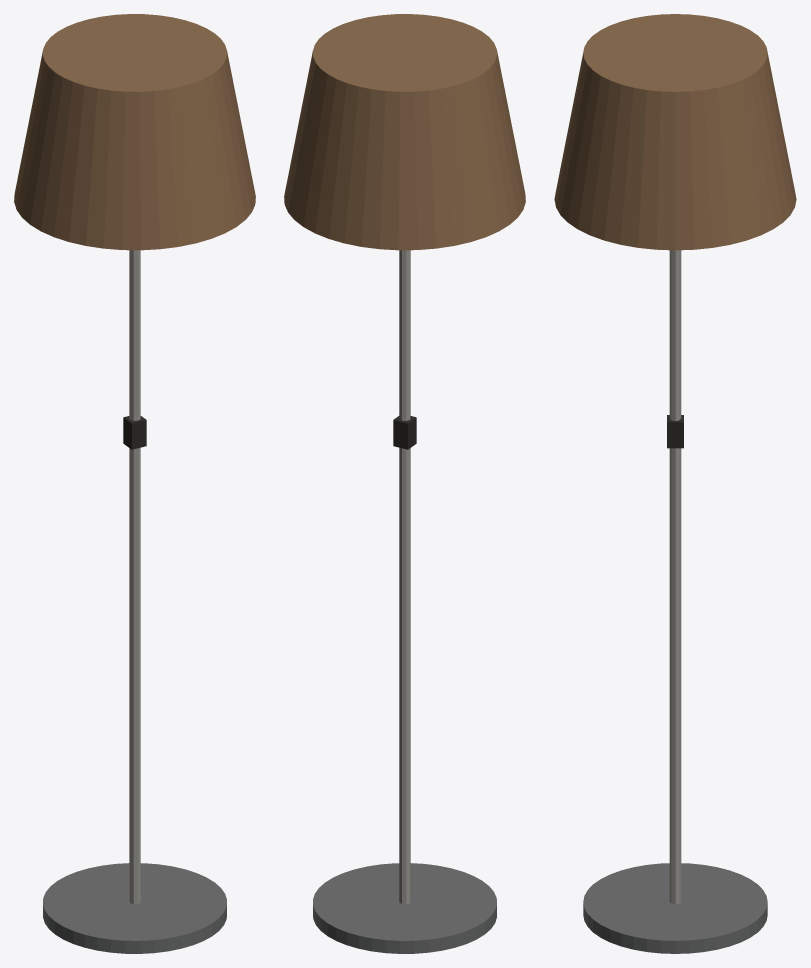
File: floor-lamp.glb
The picture shows the model from 3 angles, left to right: view 1: azimuth 30°, elevation 25°; view 2: azimuth 150°, elevation 25°; view 3: azimuth 270°, elevation 25°; orthographic projection.
Visible parts, largest first — view 1: shade, metal, brushed, plastic-dark; view 2: shade, metal, brushed, plastic-dark; view 3: shade, metal, brushed.
Part boxes in pixels (<box>): shade: <box>14,14,255,250</box>; metal: <box>43,863,226,953</box>; brushed: <box>129,250,140,904</box>; plastic-dark: <box>123,416,146,449</box>; shade: <box>284,14,525,250</box>; metal: <box>313,863,496,953</box>; brushed: <box>399,250,410,904</box>; plastic-dark: <box>393,416,416,449</box>; shade: <box>554,14,796,250</box>; metal: <box>583,863,767,953</box>; brushed: <box>669,250,681,904</box>.
Size of the model in its own units: 0.42 by 1.65 by 0.42.
